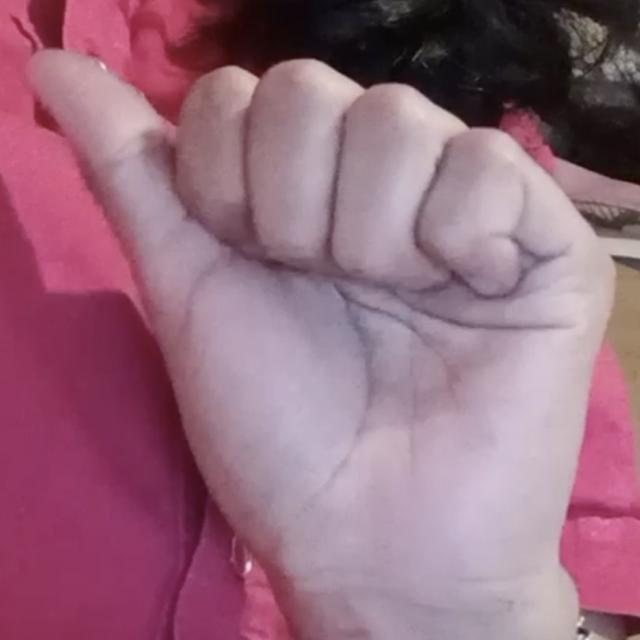A: (15, 31, 624, 586)
